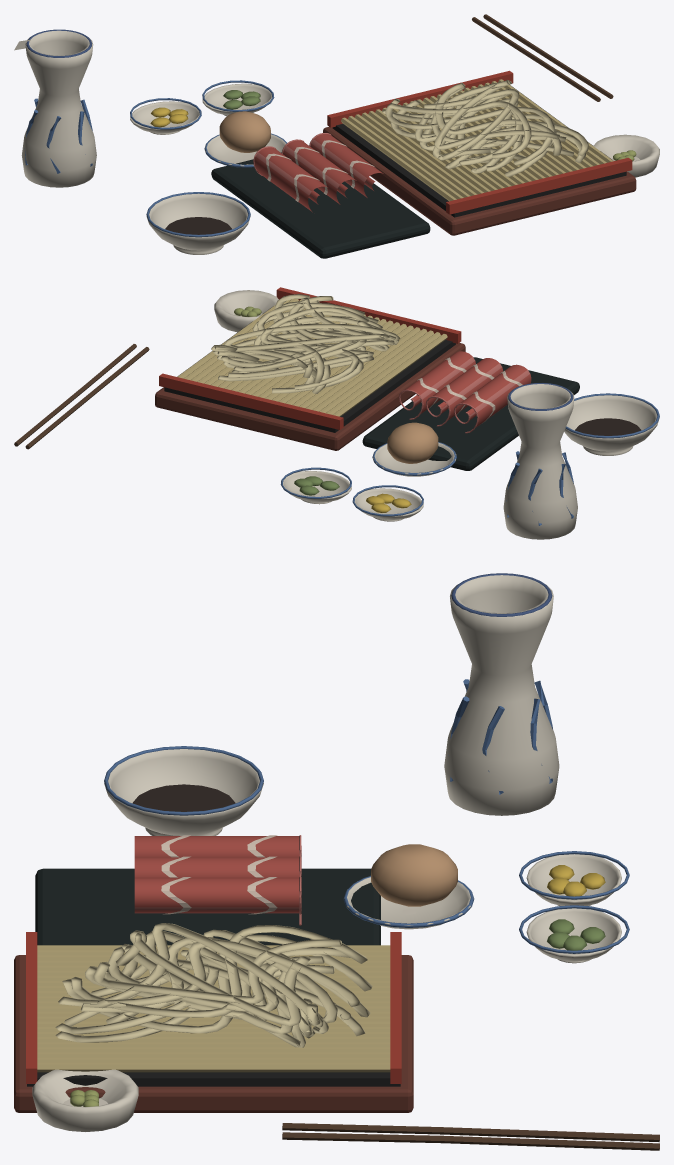
File: zaru.glb
3 renders of one model, top to bottom at view 1: azimuth 30°, elevation 25°; view 2: azimuth 150°, elevation 25°; view 3: azimuth 270°, elevation 25°, orthographic. The views are drawn at different scales.
Visible parts, largest first — view 1: Waraku_zaru; view 2: Waraku_zaru; view 3: Waraku_zaru.
Part boxes in pixels (x1=…): Waraku_zaru: x1=14, y1=14, x2=659, y2=258; Waraku_zaru: x1=14, y1=287, x2=659, y2=539; Waraku_zaru: x1=14, y1=573, x2=659, y2=1150.
Size of the model in its own units: 0.494 by 0.125 by 0.3476.
